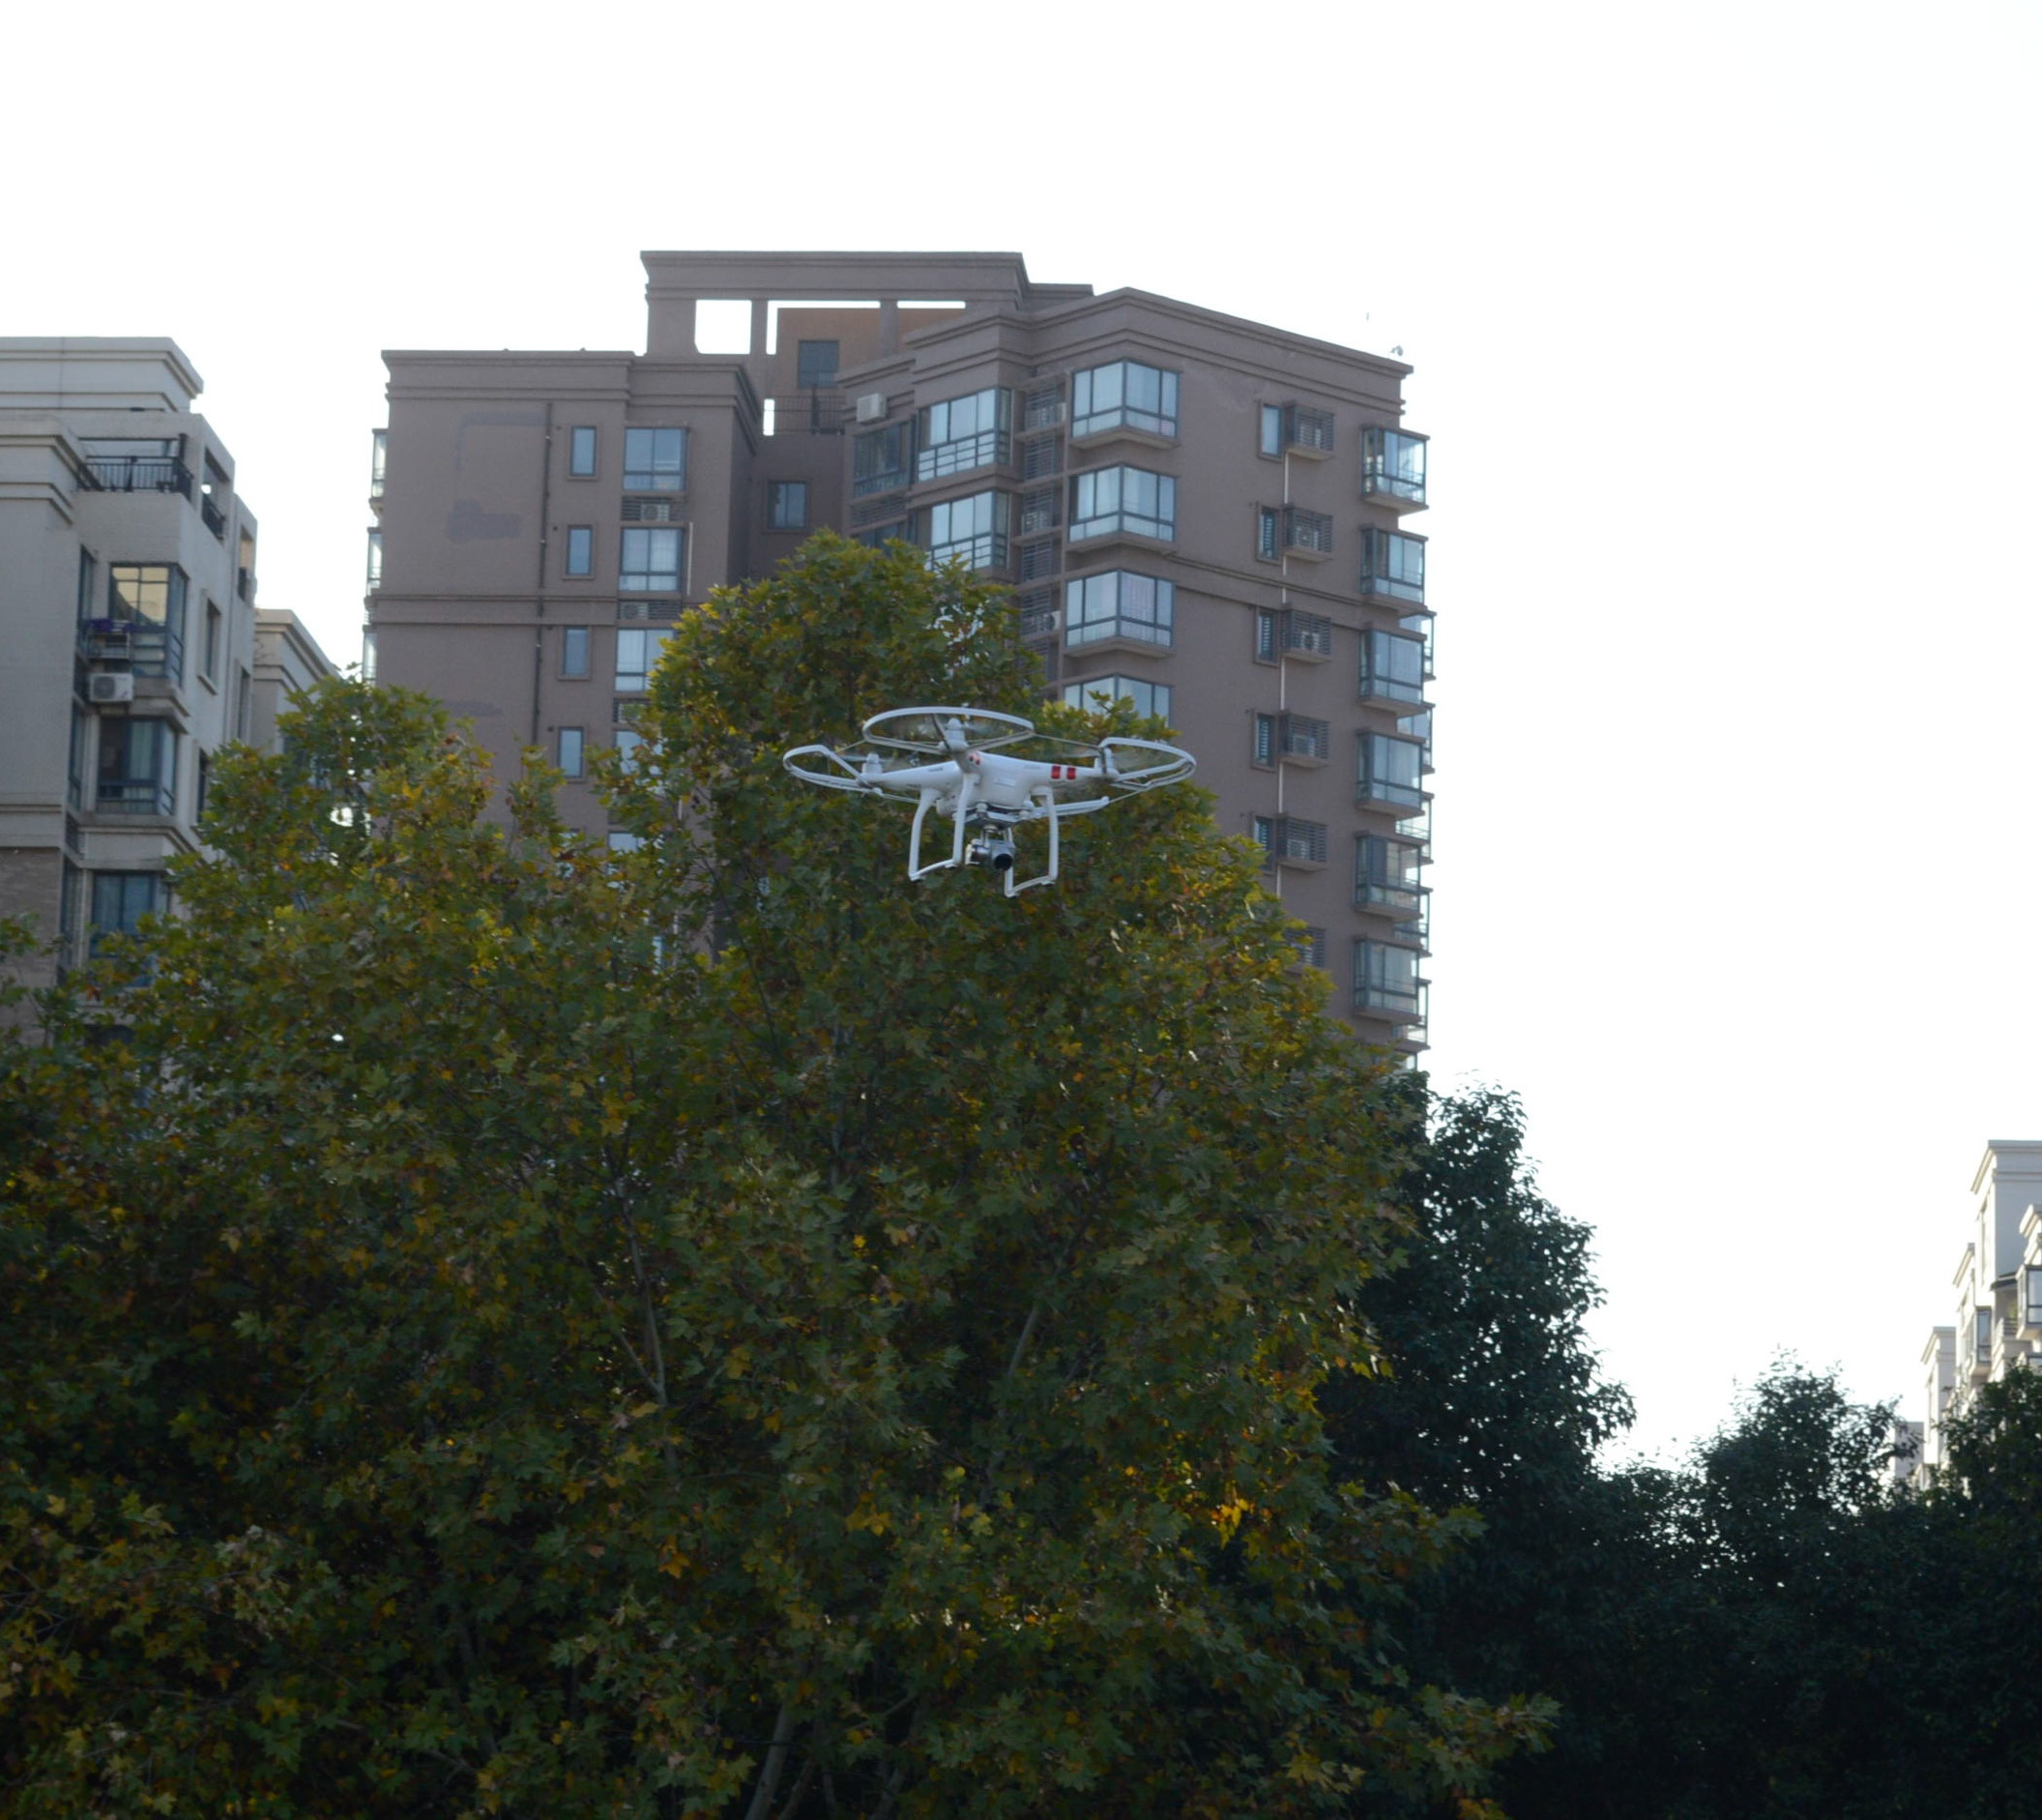DJI: (781, 699, 1204, 899)
